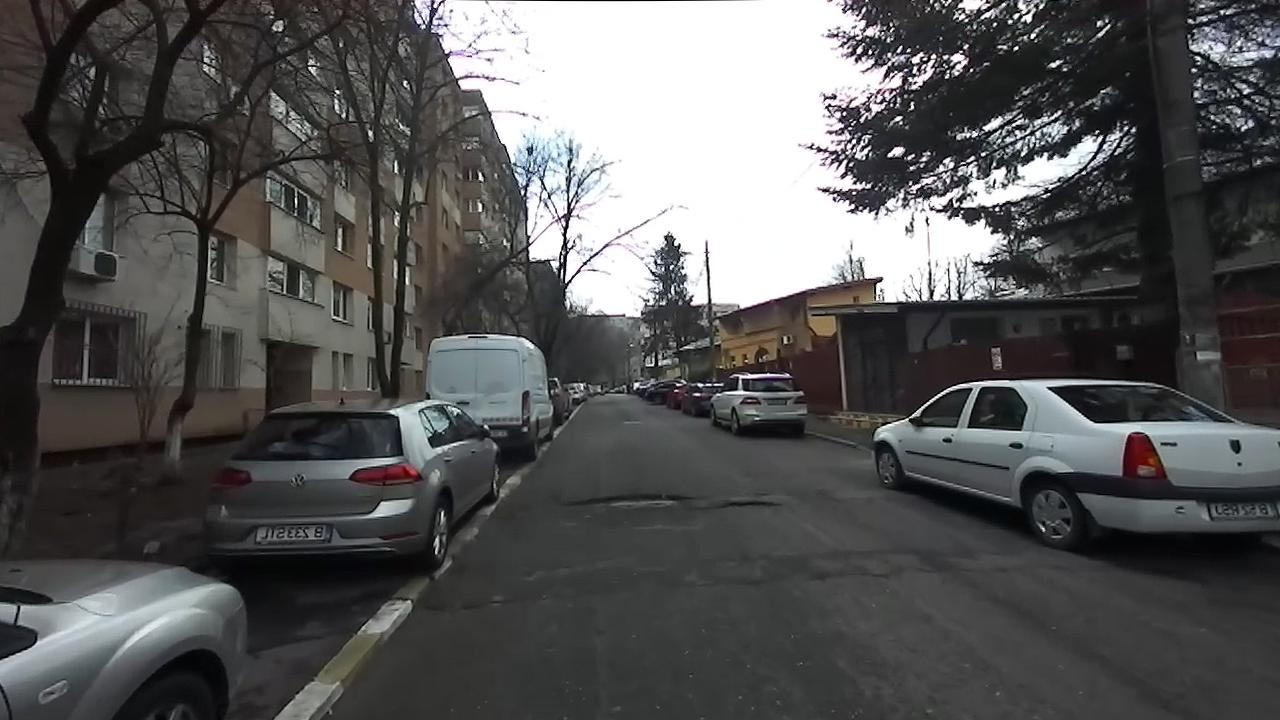pothole: (562, 489, 698, 512), (428, 592, 512, 616), (713, 496, 782, 510)
